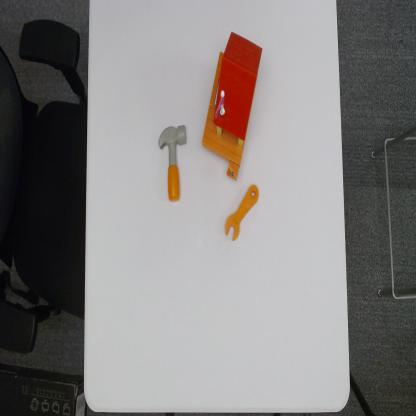Hammer: (157, 122, 188, 205)
House: (201, 30, 263, 182)
Screwdriver: (223, 185, 263, 242)
